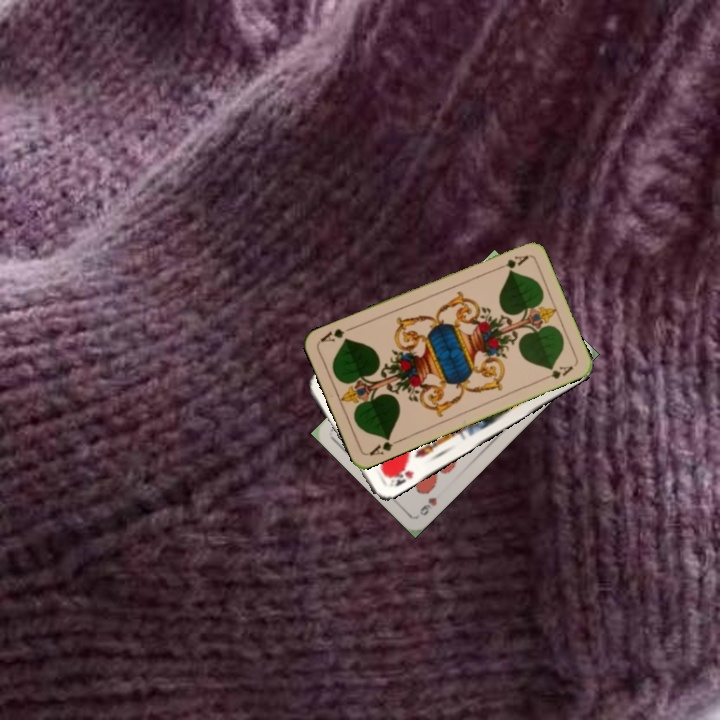GA: (365, 433, 403, 458), (492, 251, 531, 273)
H9: (416, 493, 439, 518)
HK: (384, 460, 417, 489)
